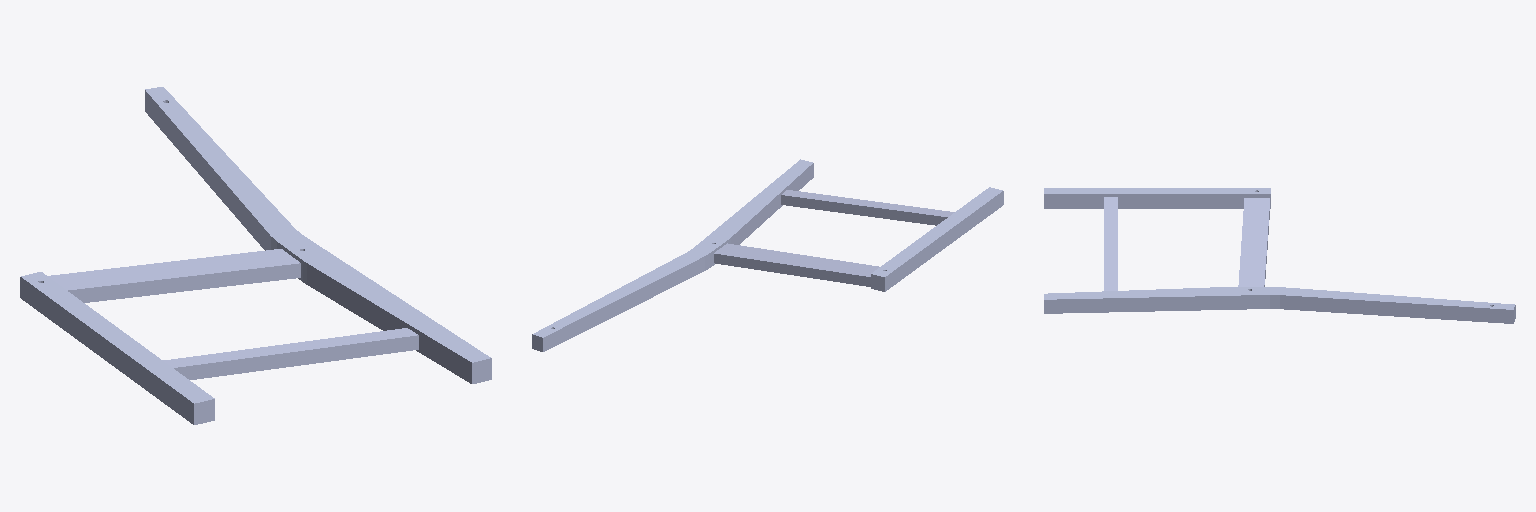
The robot description file, URDF, robot "part6.SLDPRT":
<?xml version="1.0" encoding="utf-8"?>
<!-- This URDF was automatically created by SolidWorks to URDF Exporter! Originally created by [author] ([email redacted]) 
     Commit Version: 1.5.1-0-g916b5db  Build Version: 1.5.7152.31018
     For more information, please see http://wiki.ros.org/sw_urdf_exporter -->
<robot
  name="part6.SLDPRT">
  <link
    name="part6.SLDPRT">
    <inertial>
      <origin
        xyz="0.25066 0.35103 -0.023978"
        rpy="0 0 0" />
      <mass
        value="1.8121" />
      <inertia
        ixx="0.085485"
        ixy="0.028258"
        ixz="-0.0047463"
        iyy="0.051765"
        iyz="-0.0023711"
        izz="0.13613" />
    </inertial>
    <visual>
      <origin
        xyz="0 0 0"
        rpy="0 0 0" />
      <geometry>
        <mesh
          filename="package://part6.SLDPRT/meshes/part6.SLDPRT.STL" />
      </geometry>
      <material
        name="">
        <color
          rgba="0.79216 0.81961 0.93333 1" />
        <texture
          filename="package://part6.SLDPRT/textures/" />
      </material>
    </visual>
    <collision>
      <origin
        xyz="0 0 0"
        rpy="0 0 0" />
      <geometry>
        <mesh
          filename="package://part6.SLDPRT/meshes/part6.SLDPRT.STL" />
      </geometry>
    </collision>
  </link>
</robot>

--- Render facts (derived) ---
The picture shows the robot from 3 angles, left to right: view 1: azimuth 30°, elevation 25°; view 2: azimuth 150°, elevation 25°; view 3: azimuth 270°, elevation 25°; orthographic projection.
Robot: part6.SLDPRT — 1 links, 0 joints (none); root link part6.SLDPRT; default pose: all joints at 0.
Links seen in each view (by area): view 1: part6.SLDPRT; view 2: part6.SLDPRT; view 3: part6.SLDPRT.
Boxes of the visible links, x1,y1,x2,y2 form: part6.SLDPRT: (20, 87, 491, 424); part6.SLDPRT: (532, 159, 1003, 351); part6.SLDPRT: (1044, 188, 1515, 323).
Bounding box of the posed robot: 0.4763 × 0.906 × 0.0671 m (x, y, z).
1 mesh visuals loaded from 1 distinct referenced files (1 binary STL).